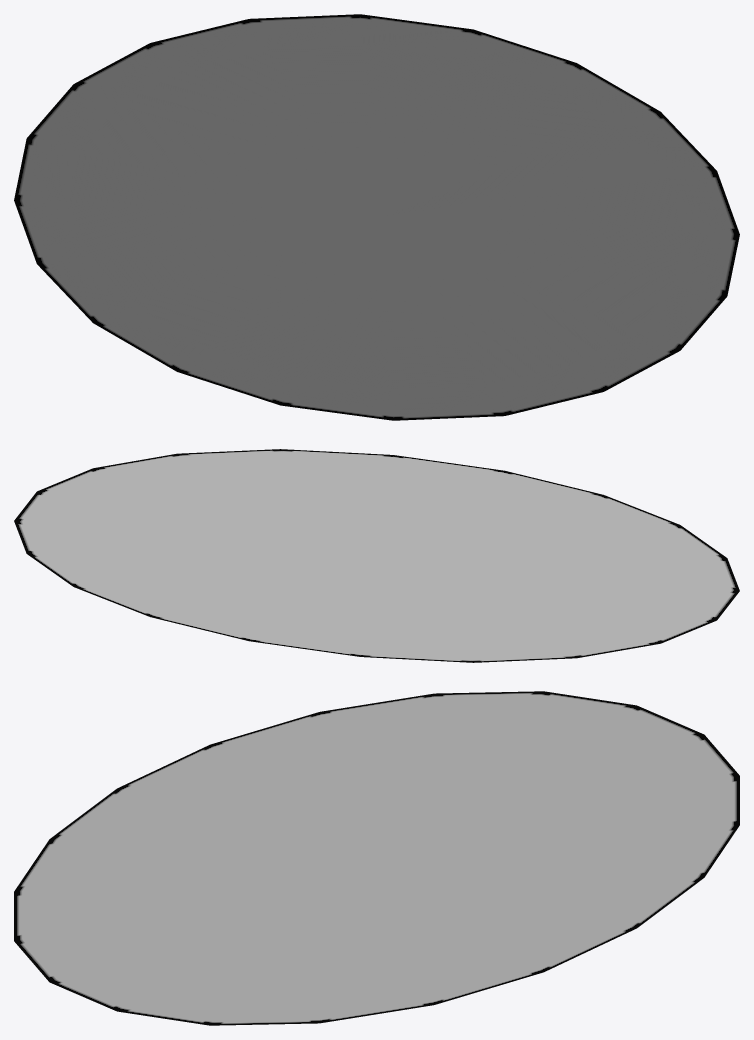
3 views of the same model, one above another, from view 1: azimuth 30°, elevation 25°; view 2: azimuth 150°, elevation 25°; view 3: azimuth 270°, elevation 25° (orthographic). The views are drawn at different scales.
Visible parts, largest first — view 1: Joint_0_Object_0; view 2: Joint_0_Object_0; view 3: Joint_0_Object_0.
Boxes of the visible parts, x1,y1,x2,y2 form: Joint_0_Object_0: (14,14,739,420); Joint_0_Object_0: (14,449,739,662); Joint_0_Object_0: (14,691,739,1025).
Bounding box in the file's own units: 213 × 36.98 × 210.
1 material, 1 textured.
